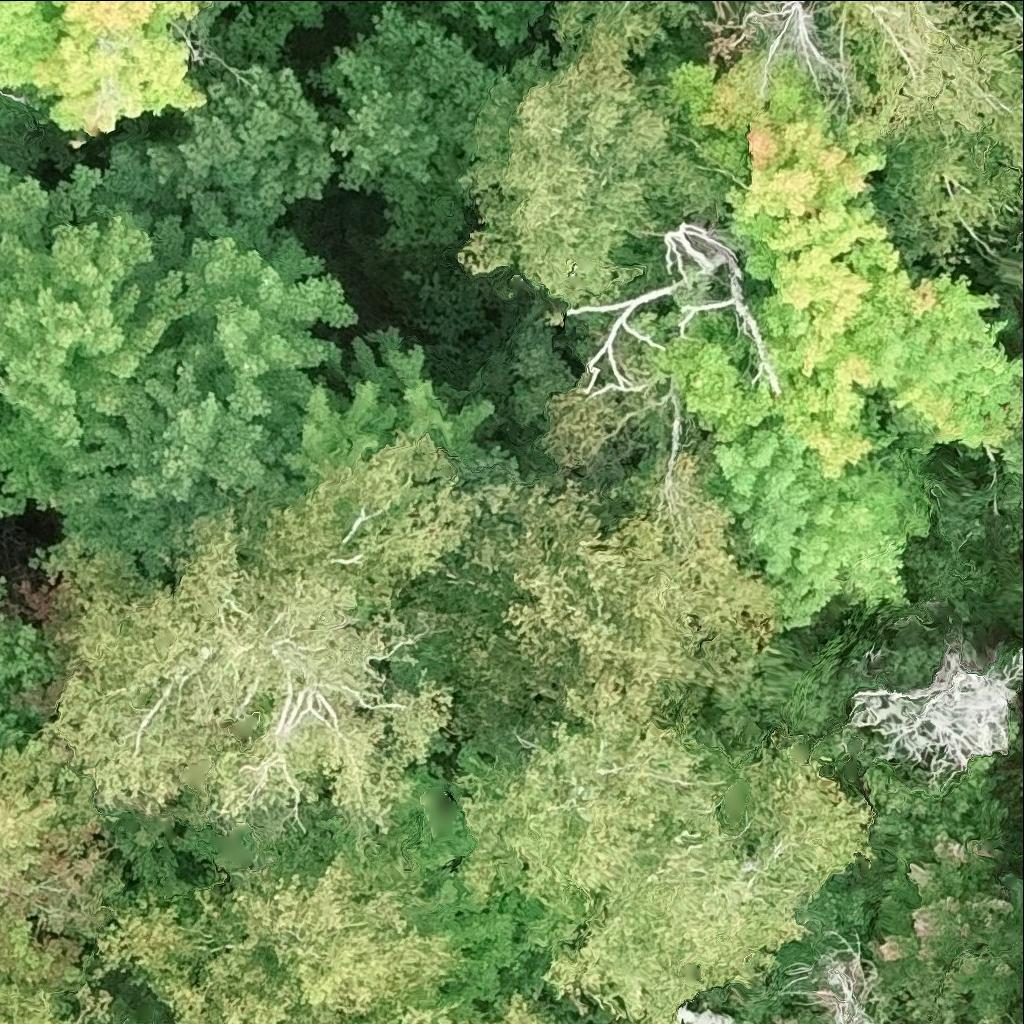crown: (47, 428, 516, 830), (51, 213, 514, 573), (459, 709, 877, 1023), (639, 291, 931, 629), (392, 480, 755, 739), (536, 326, 785, 647), (669, 39, 893, 377), (458, 41, 743, 305), (0, 163, 201, 461), (804, 0, 1023, 260), (95, 863, 447, 1023), (327, 0, 496, 248), (829, 240, 1023, 455), (866, 752, 1013, 1023), (562, 219, 781, 395), (104, 66, 333, 227), (0, 723, 122, 1019), (0, 0, 207, 135), (846, 642, 1023, 785), (729, 927, 883, 1023), (549, 0, 699, 68), (746, 0, 846, 88), (0, 625, 61, 757), (0, 399, 67, 516), (231, 0, 328, 65), (441, 0, 552, 50), (0, 984, 110, 1023), (354, 1002, 456, 1023), (498, 988, 556, 1023), (229, 999, 292, 1023), (1011, 144, 1023, 205), (1017, 232, 1023, 285), (196, 0, 213, 10), (894, 1019, 924, 1023), (0, 363, 8, 377)
